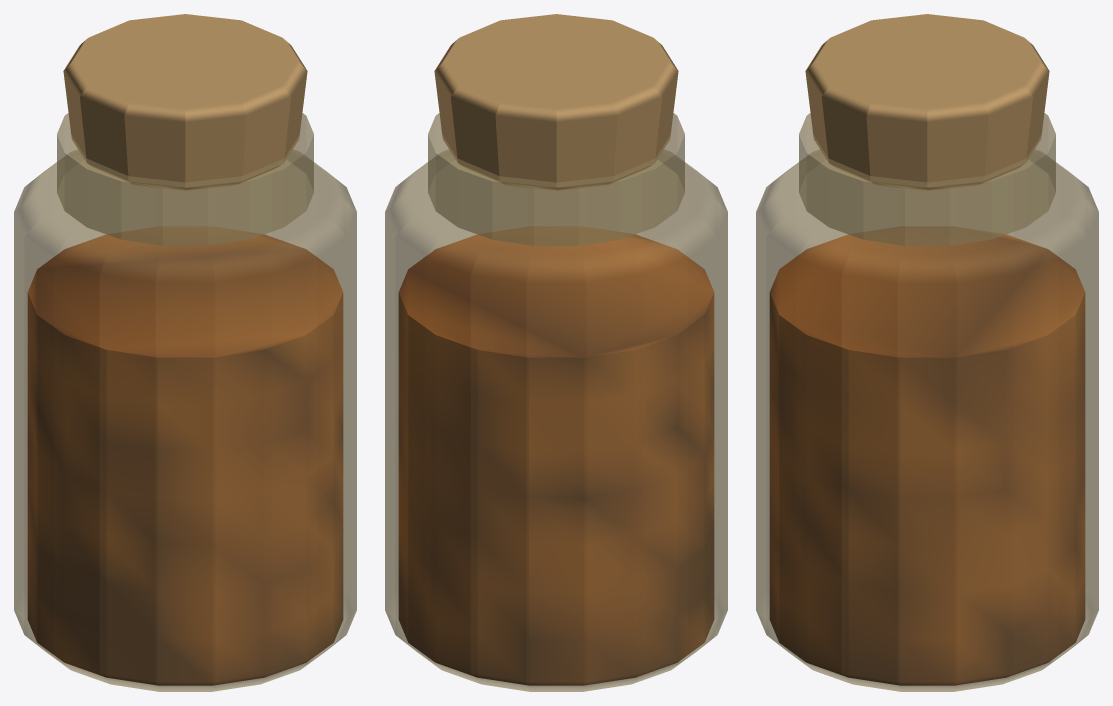
File: FindSploosh.glb
The picture shows the model from 3 angles, left to right: view 1: azimuth 30°, elevation 25°; view 2: azimuth 150°, elevation 25°; view 3: azimuth 270°, elevation 25°; orthographic projection.
Visible parts, largest first — view 1: Sploosh_1.001; view 2: Sploosh_1.001; view 3: Sploosh_1.001.
Boxes of the visible parts, bbox=[...] form: Sploosh_1.001: bbox=[14, 14, 356, 691]; Sploosh_1.001: bbox=[385, 14, 727, 691]; Sploosh_1.001: bbox=[756, 14, 1098, 691].
Size of the model in its own units: 0.063 by 0.117 by 0.064.
